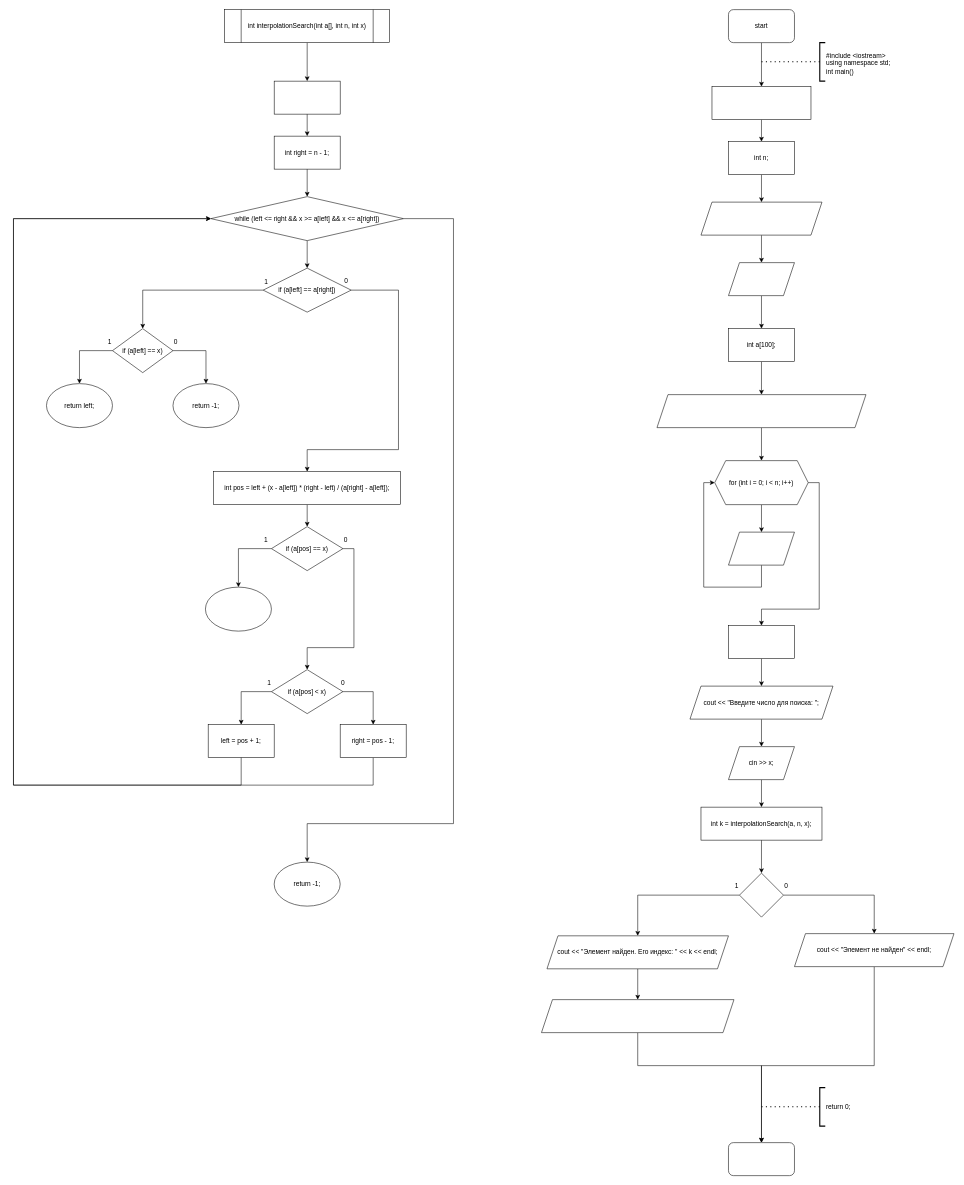
Image size: 964x1185. Some labels were removed from this diagram. The box of each missing label's shape, as (x1, y1, x2, y2) in pixels:
cin >> a[i];: (728, 532, 794, 565)
cin >> n;: (728, 262, 794, 296)
cout << "Введите количество элементов: ";: (700, 202, 822, 235)
cout << "Введите отсортированный массив:" << endl;: (656, 394, 866, 428)
cout << "Номер элемента: " << k + 1 << endl;: (541, 999, 734, 1033)
end: (728, 1142, 794, 1176)
if (k != -1): (739, 873, 783, 917)
int left = 0;: (274, 81, 340, 114)
int x;: (728, 625, 794, 659)
return pos;: (205, 587, 271, 631)
setlocale(LC_ALL, "Russian");: (711, 86, 811, 120)
